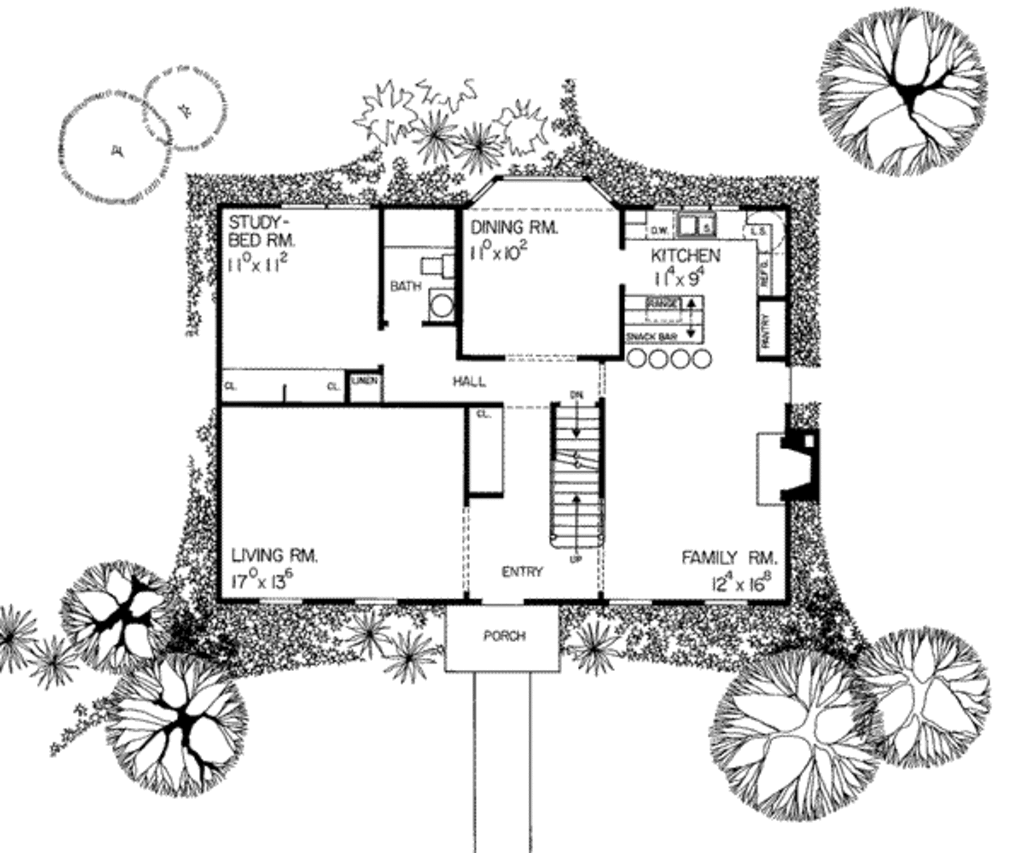kitchen_bar: (620, 283, 714, 375)
large_sink: (417, 248, 457, 284)
stairs: (546, 382, 609, 569)
twin_sink: (669, 209, 719, 239)
windows: (277, 198, 372, 216), (498, 169, 578, 185), (252, 591, 307, 612), (353, 593, 399, 612), (601, 594, 652, 611)
